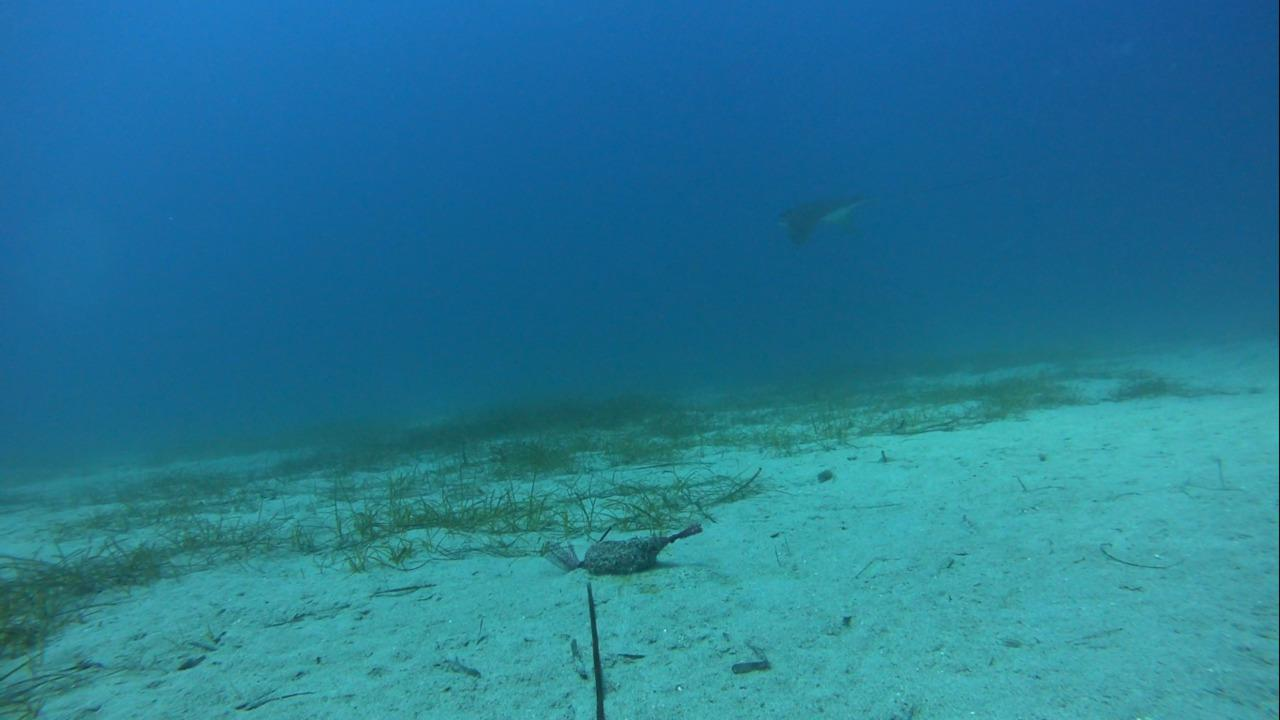myliobatis: (769, 165, 1038, 253)
